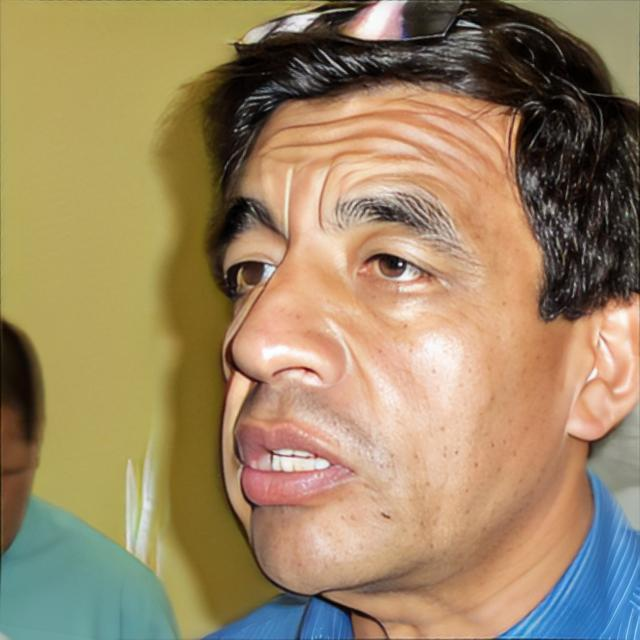disgust: (203, 80, 565, 596)
